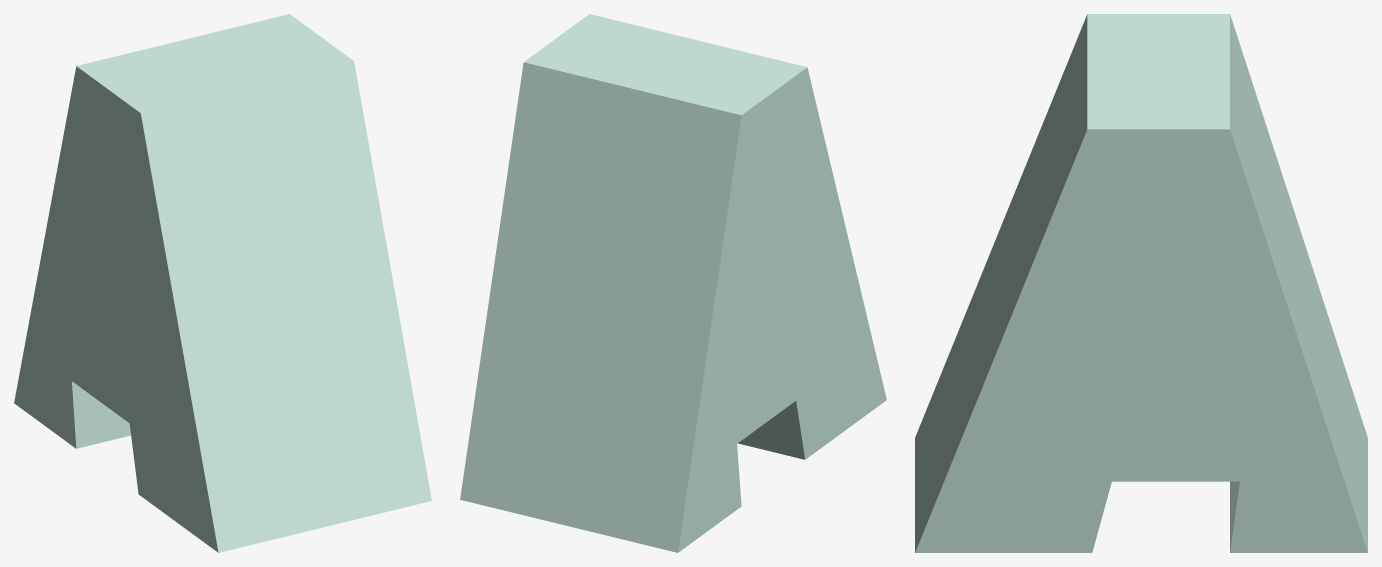
3 renders of one model, left to right at view 1: azimuth 30°, elevation 25°; view 2: azimuth 150°, elevation 25°; view 3: azimuth 270°, elevation 25°, orthographic. The views are drawn at different scales.
Visible parts, largest first — view 1: Renderer Node; view 2: Renderer Node; view 3: Renderer Node.
Boxes of the visible parts, x1,y1,x2,y2 form: Renderer Node: [14, 14, 431, 552]; Renderer Node: [460, 14, 886, 552]; Renderer Node: [915, 14, 1367, 552].
Size of the model in its own units: 0.4375 by 0.75 by 0.7263.
